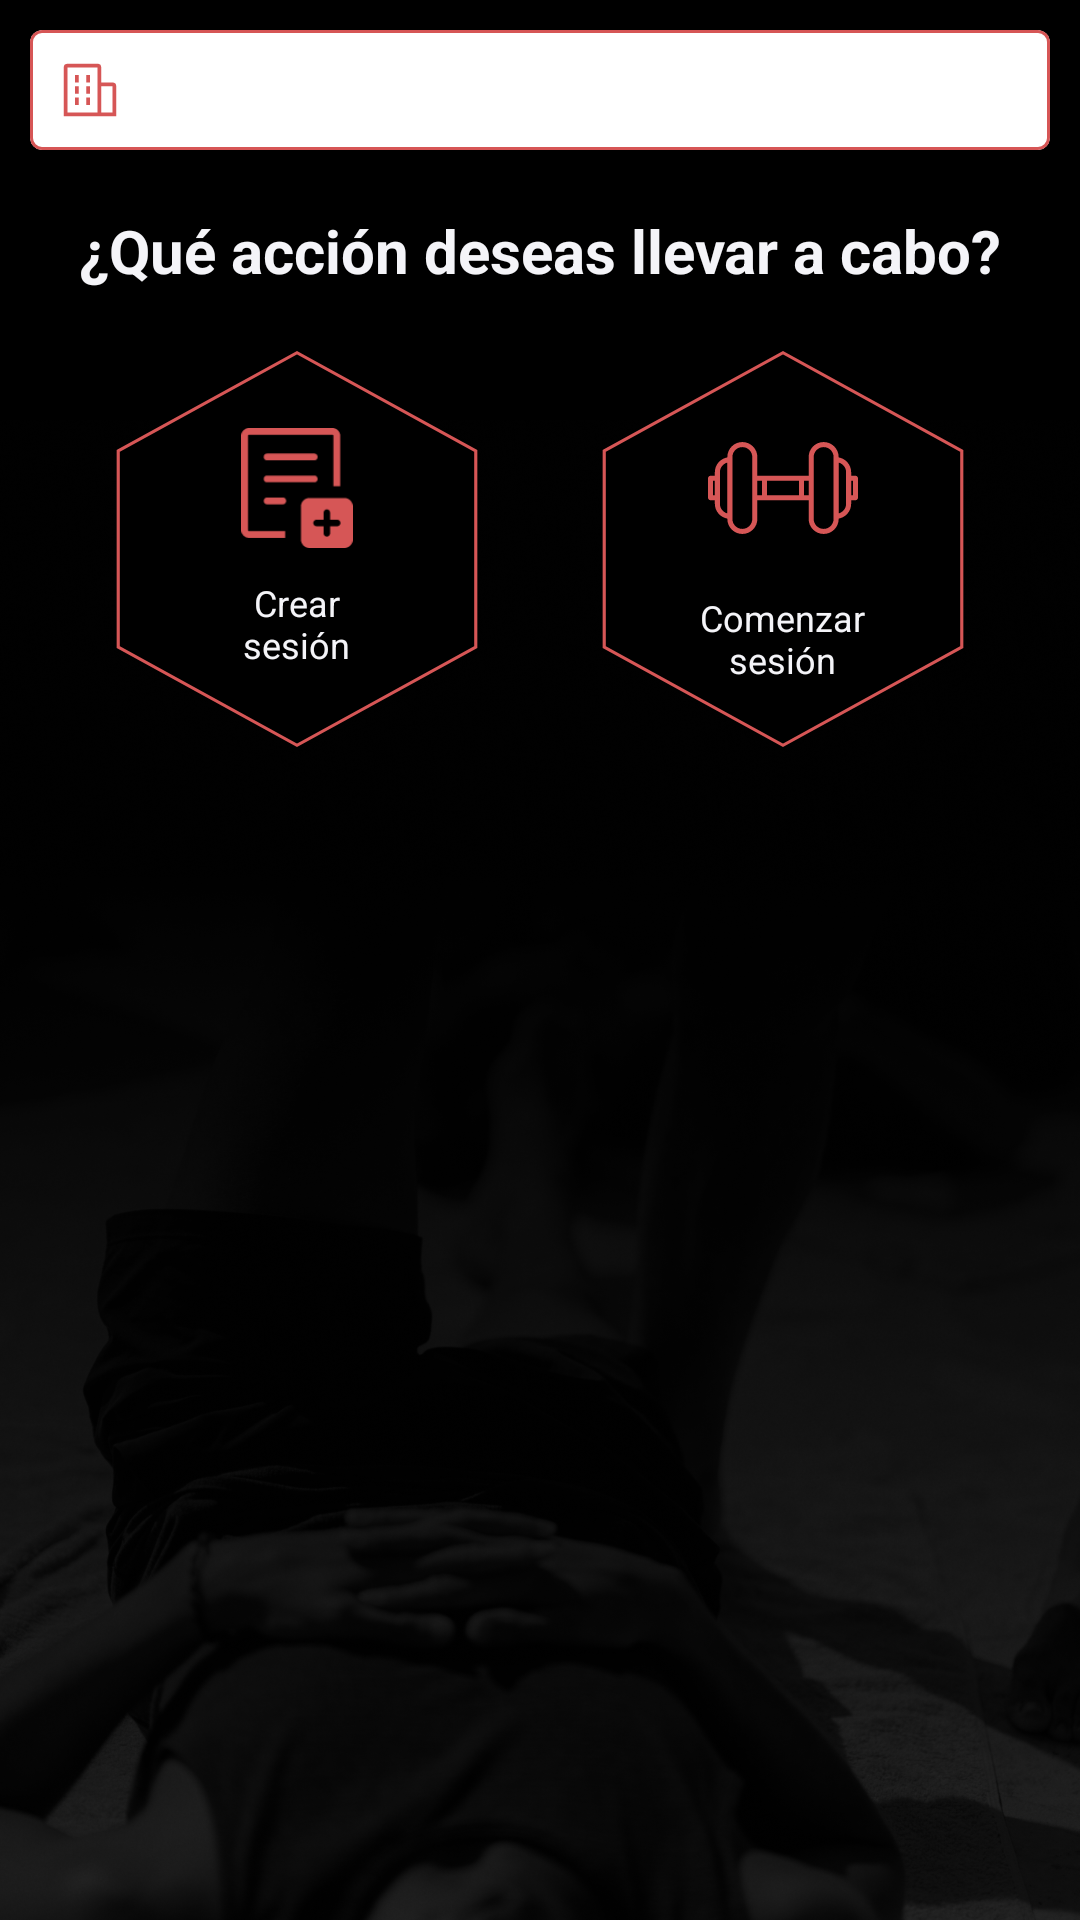

Named icons in this screenshot (1080*1920) and their bounding boxes, (x1, y1, x2, y2):
add item: (241, 428, 353, 548)
enterprise: (63, 63, 117, 117)
